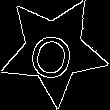O_N: (27, 21, 80, 80)
